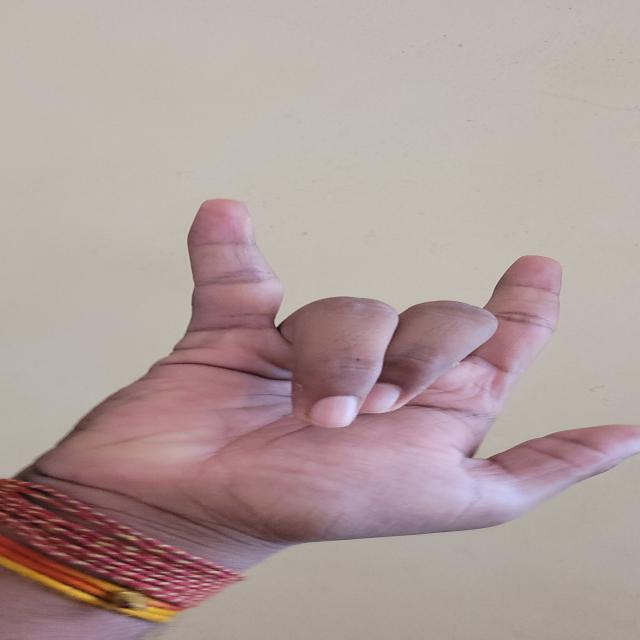i like you: (18, 156, 640, 551)
